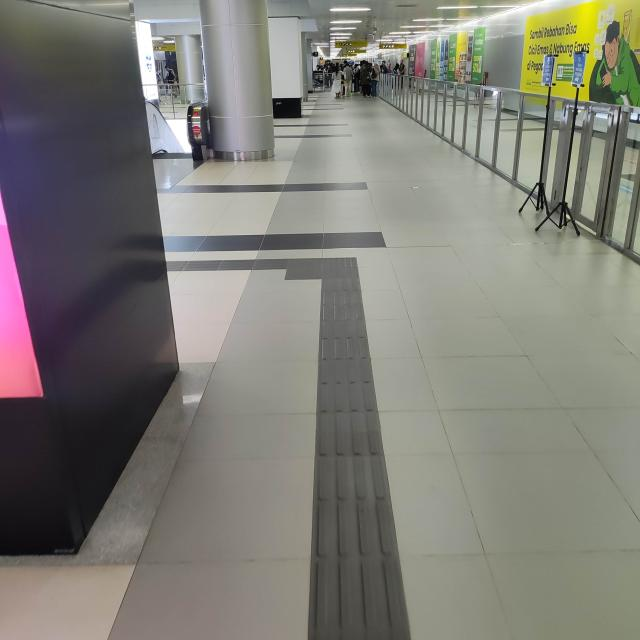kiri: (220, 244, 392, 298)
